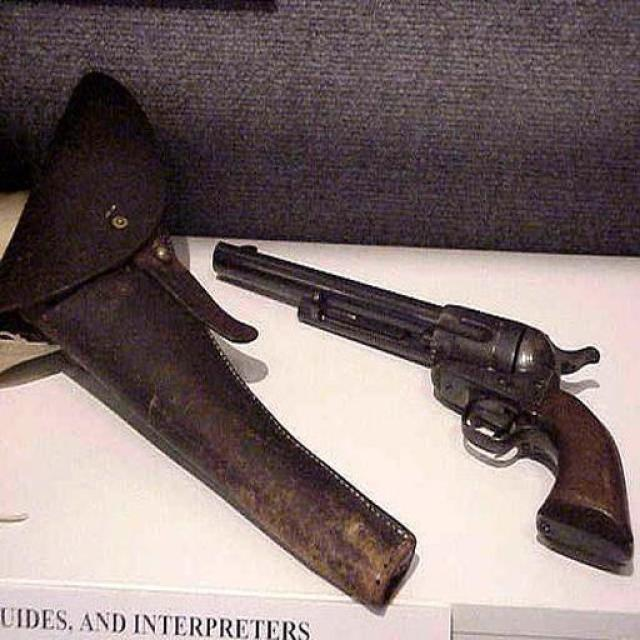pistol: (214, 239, 633, 573)
